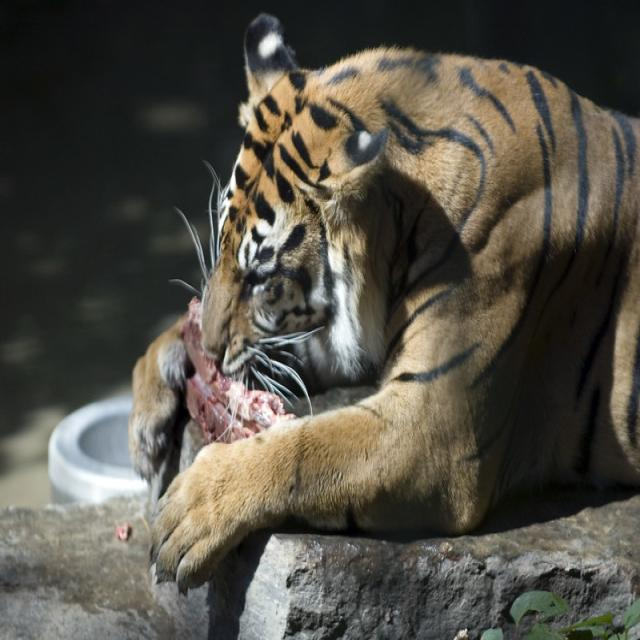Tiger: (127, 8, 639, 594)
